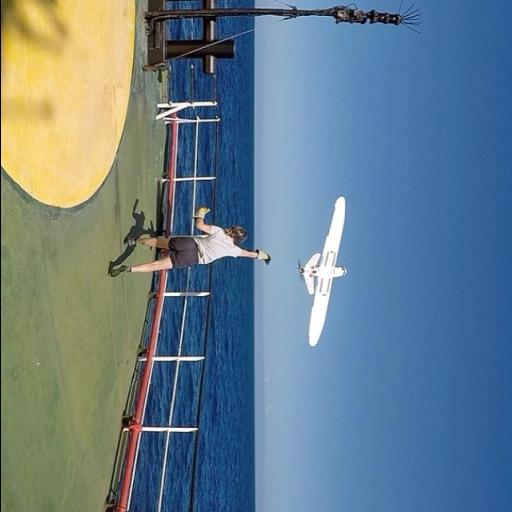uav: (288, 188, 358, 358)
